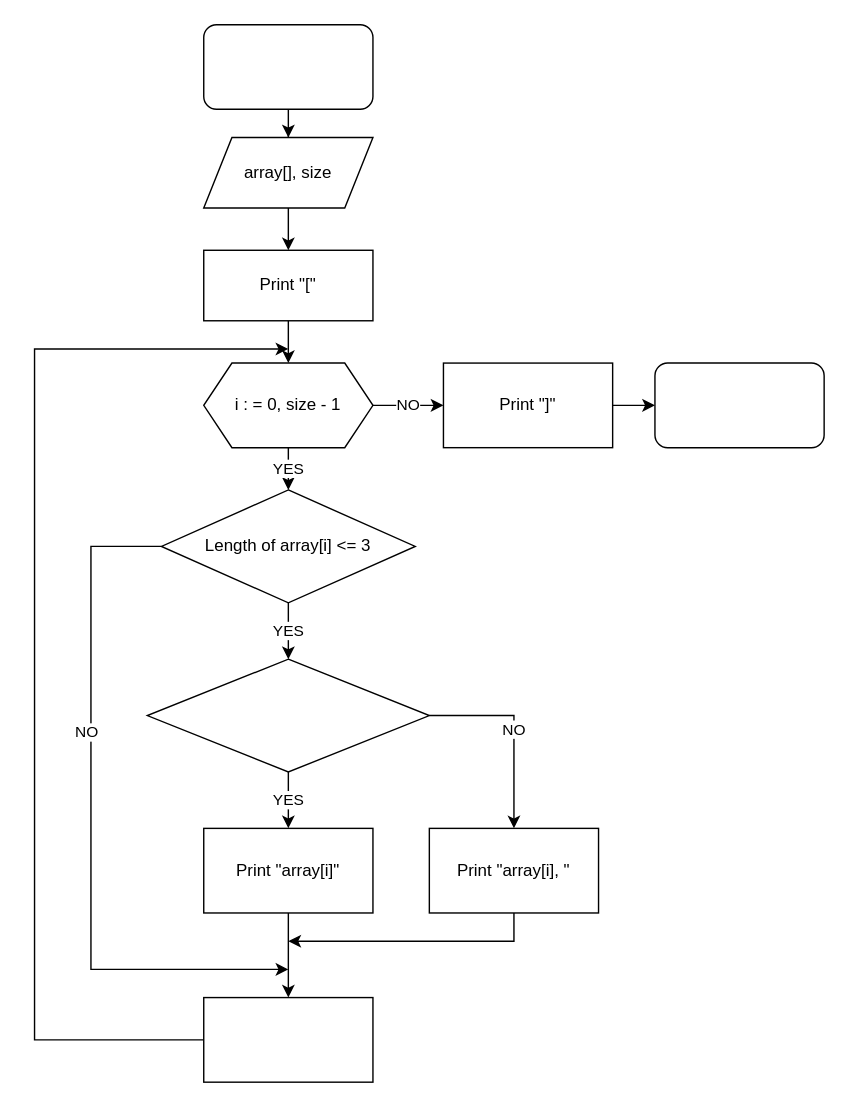
This 849x1107 diagram has some shape labels left out. Each missing label, with the centre of its shape:
"End" goes at (x=739, y=405).
"i == size- 1" goes at (x=287, y=715).
"i++" goes at (x=287, y=1039).
"Start" goes at (x=287, y=66).
